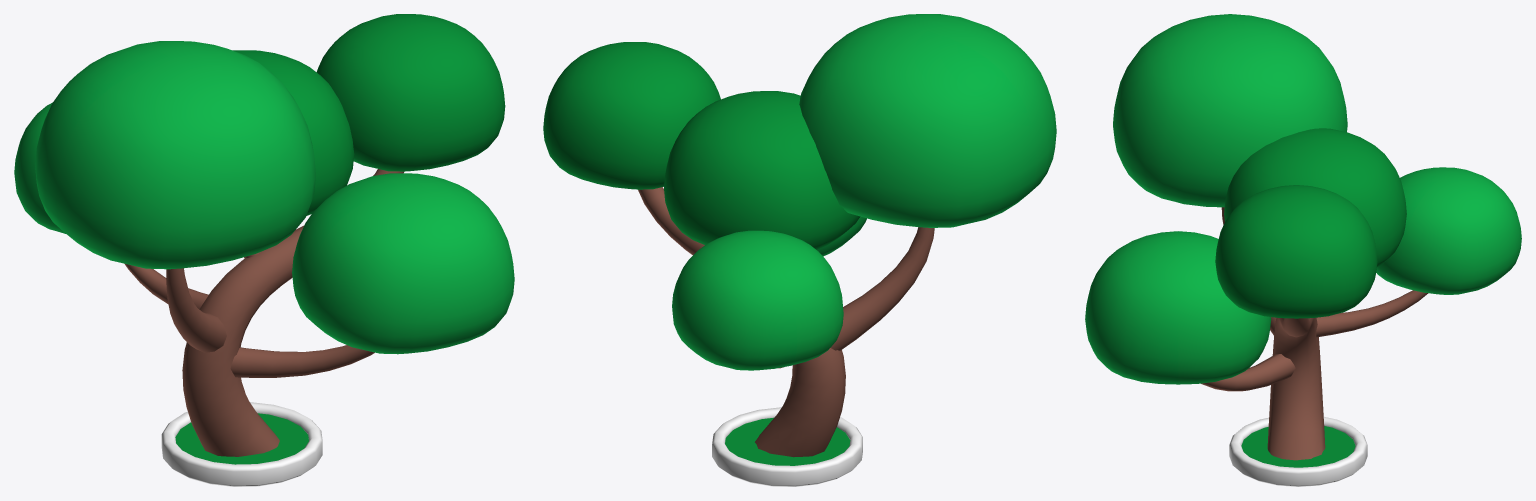
Rendered from Town_6_Tree_1.glb.
3 renders of one model, left to right at view 1: azimuth 30°, elevation 25°; view 2: azimuth 150°, elevation 25°; view 3: azimuth 270°, elevation 25°, orthographic. The views are drawn at different scales.
Parts seen in each view (by area): view 1: Town_6_Tree_1; view 2: Town_6_Tree_1; view 3: Town_6_Tree_1.
Part boxes in pixels (x1,y1,x2,y2): Town_6_Tree_1: [14, 14, 514, 486]; Town_6_Tree_1: [543, 14, 1056, 486]; Town_6_Tree_1: [1085, 14, 1521, 486].
Bounding box in the file's own units: 7.94 × 7.24 × 7.44.
Materials: 1 (1 with a texture image).
